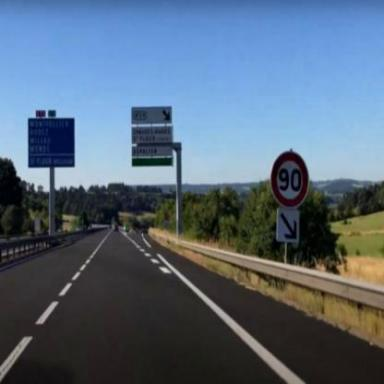Speed_limit_90: (272, 152, 310, 210)
